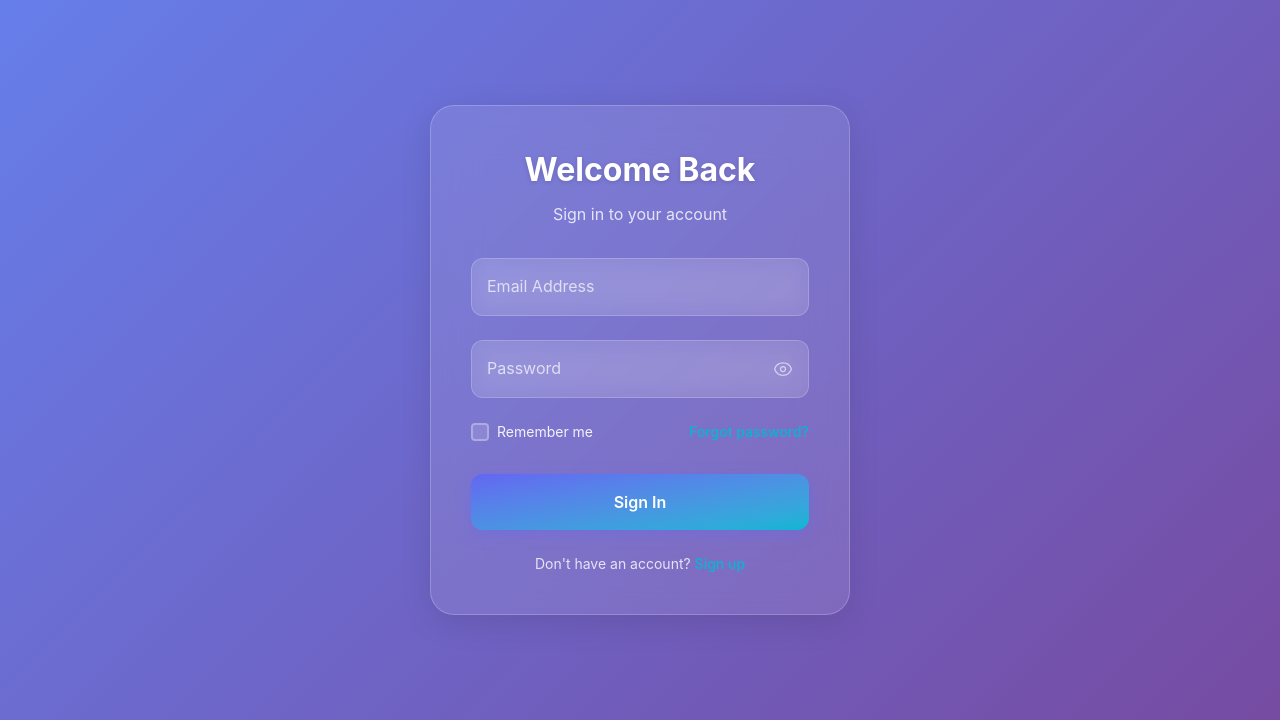
Test: Login Component (UC-01) - Integration Test › nên hiển thị lỗi khi mật khẩu ngắn hơn 6 ký tự
Type "test@gmail.com" into the field labelled "Email Address" at (640, 287), box [471,258,809,316]
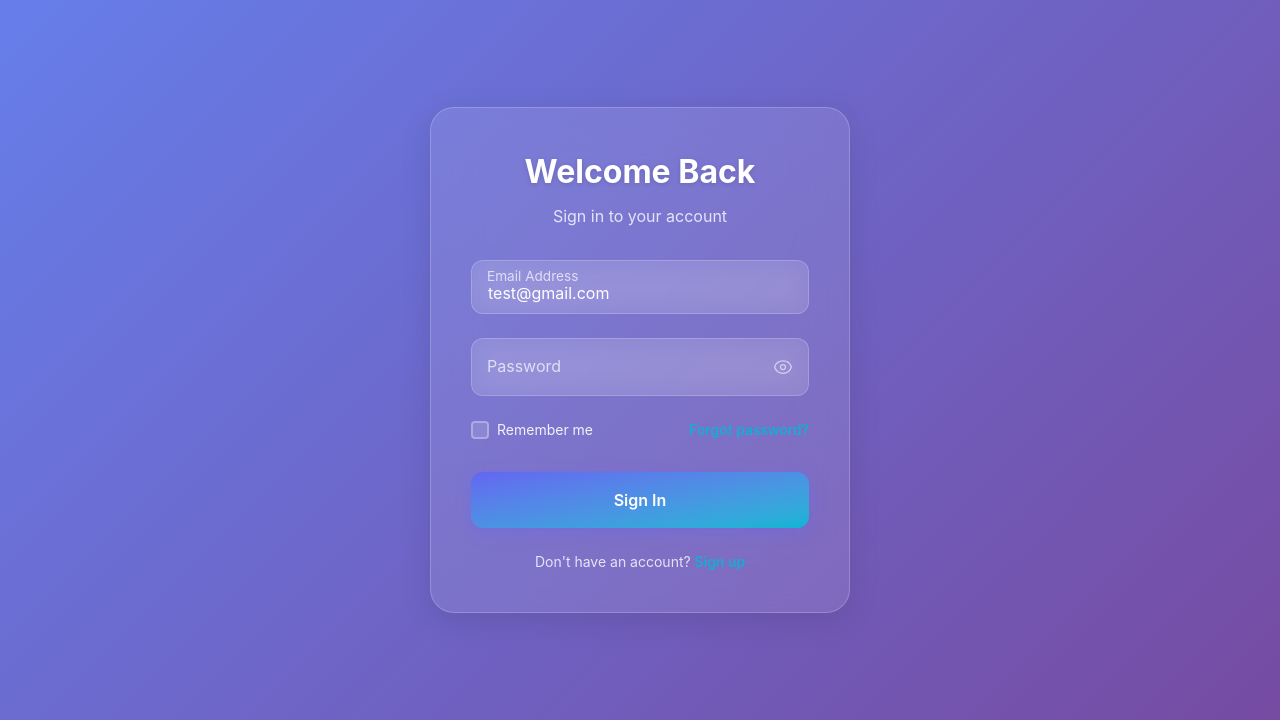
Type "123" into the password field labelled "Password" at (640, 367), box [471,338,809,396]
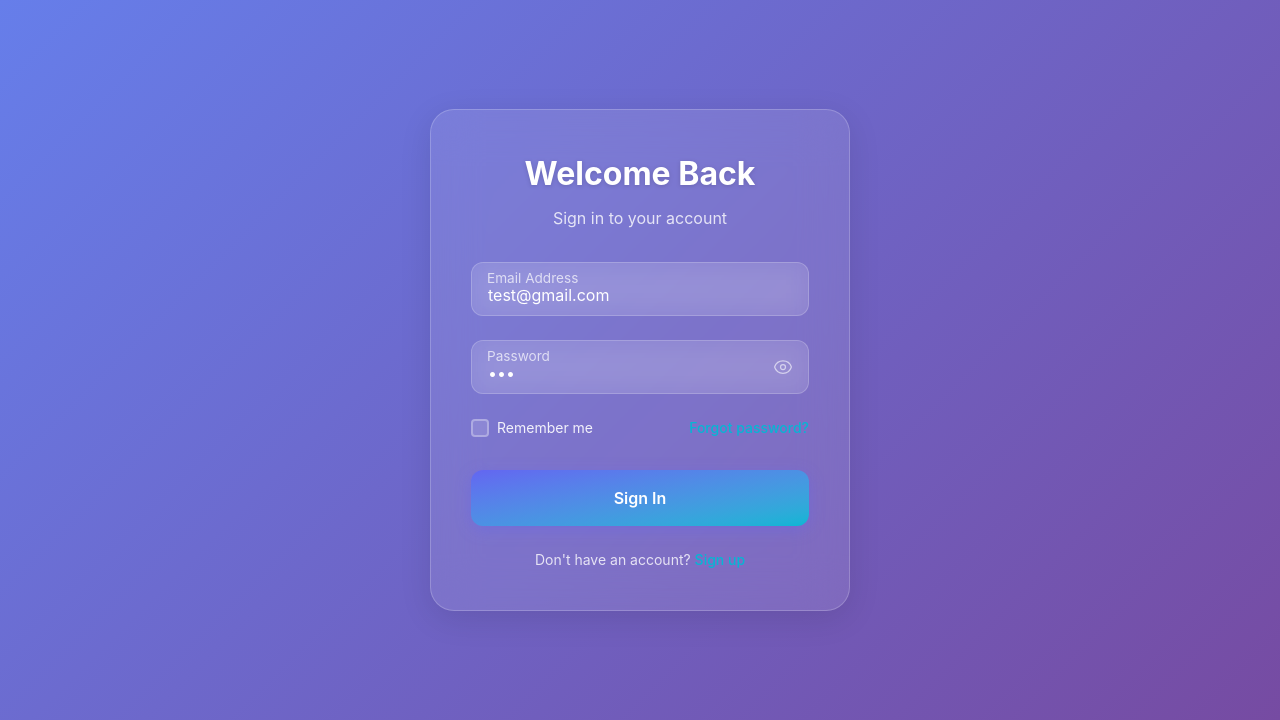
Click the button "Sign In" at (640, 498), box [471,470,809,526]
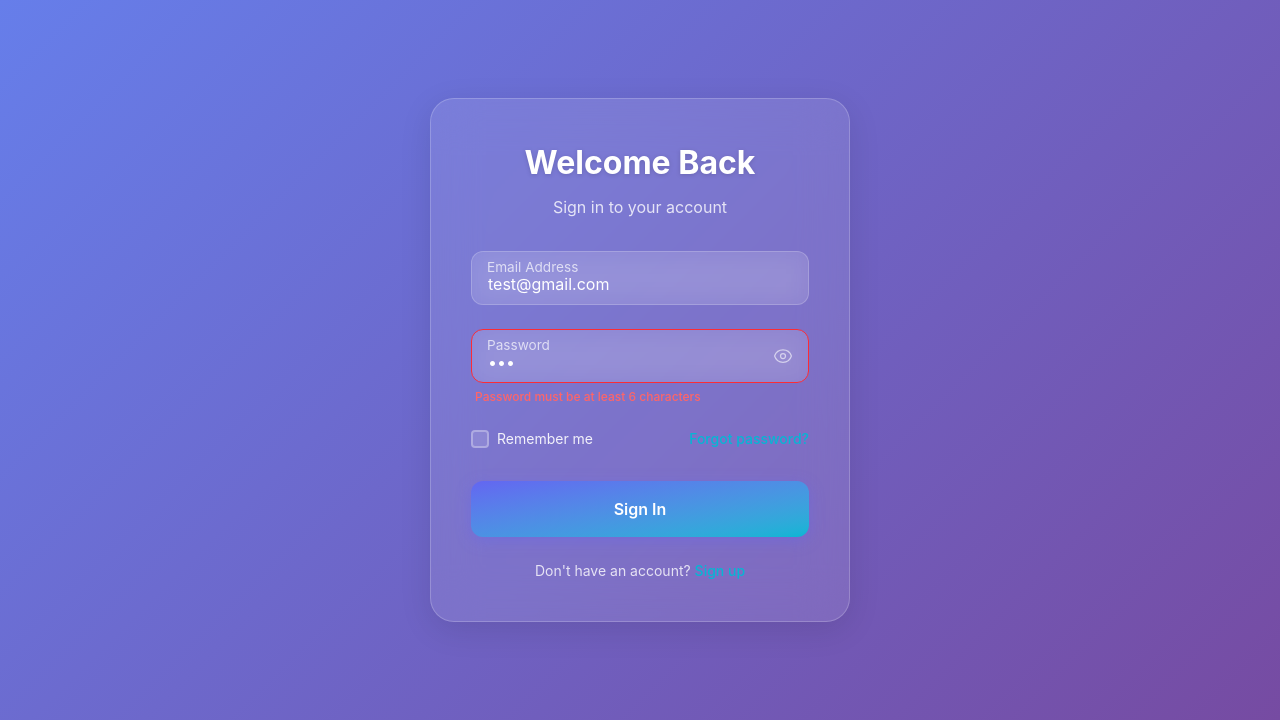
Check: the text "Password must be at least 6 characters" is shown, box [475,389,701,404]
